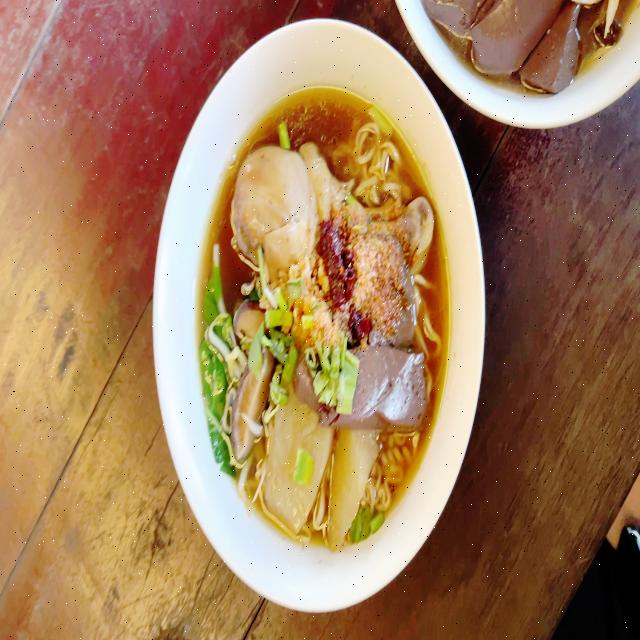boiled_chicken_blood_jelly: (414, 0, 586, 89), (356, 347, 420, 422), (399, 272, 419, 341), (295, 351, 313, 399)
chicken_drumstick: (228, 148, 434, 275)
daikon_radish: (267, 430, 377, 540)
noodle: (210, 135, 435, 518)
